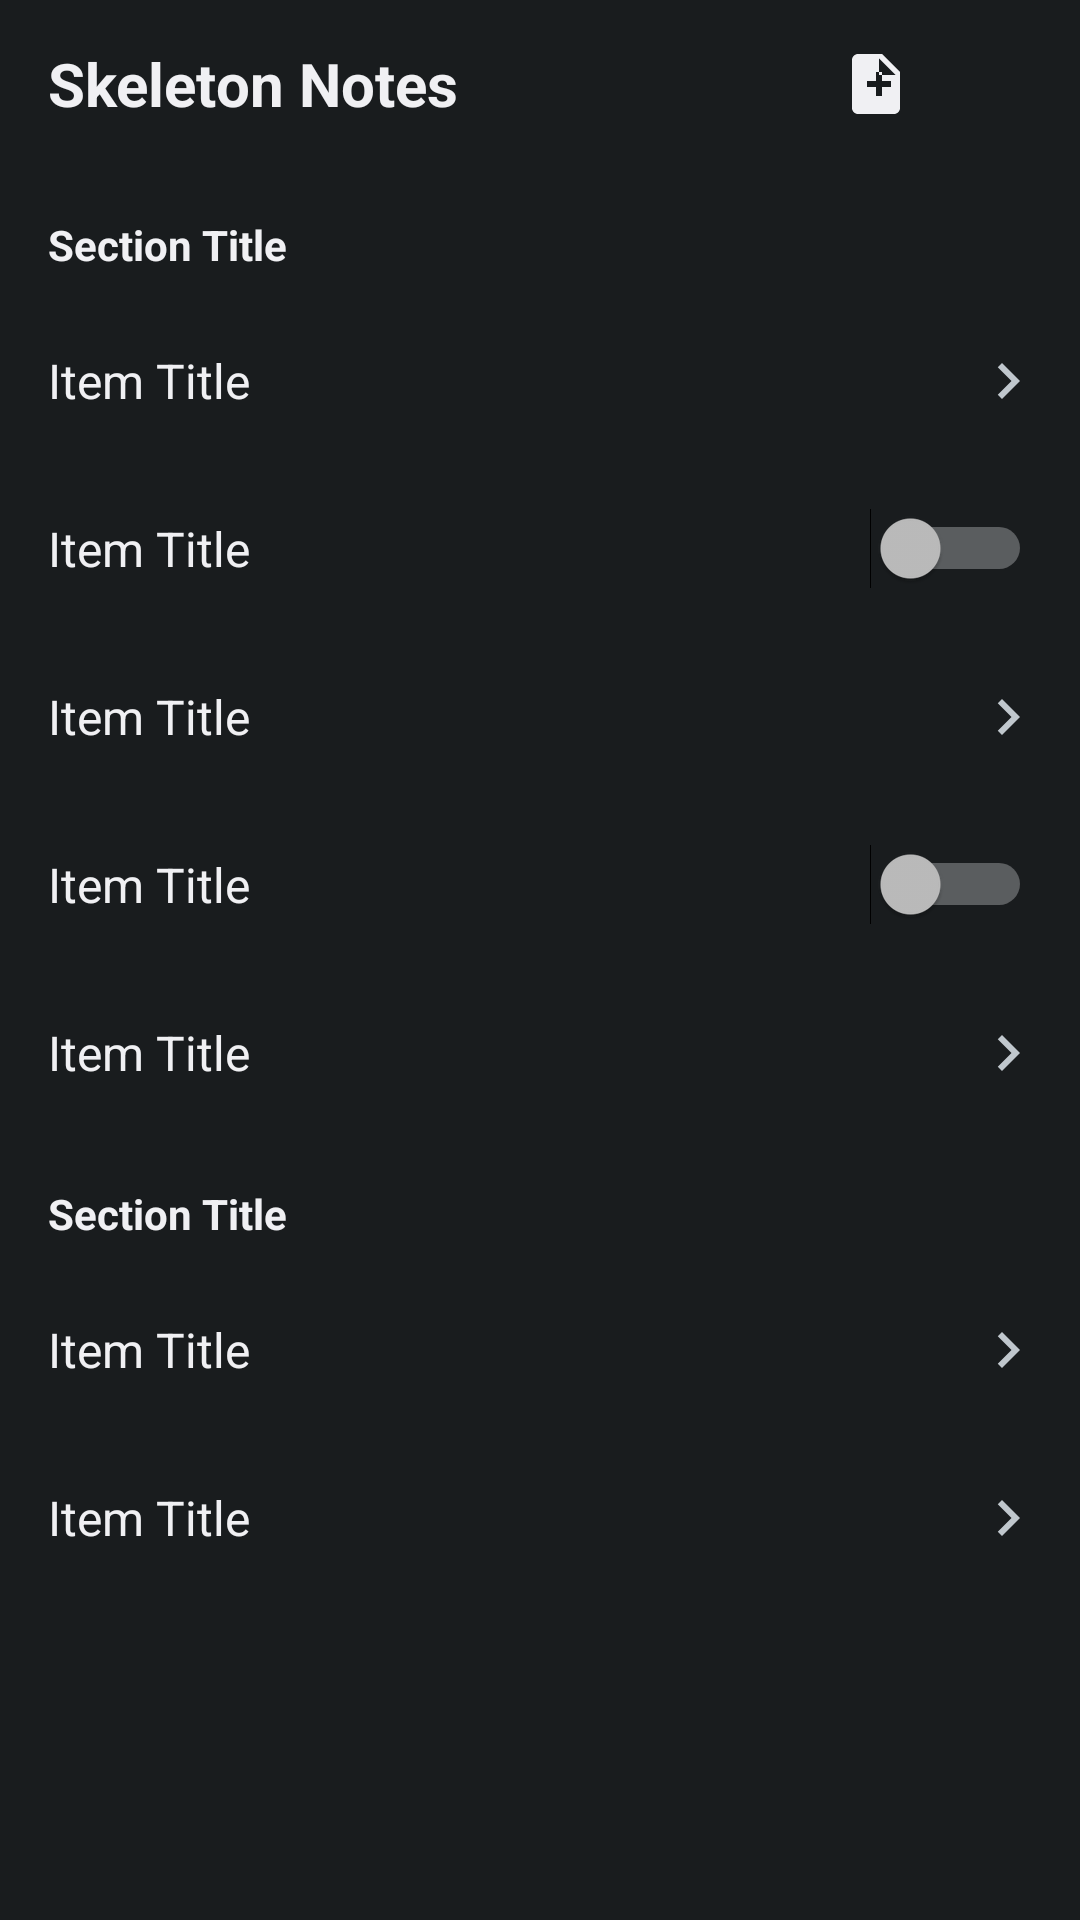

Icon click points for this 1080px×1920px phone screenshot, format [x,y]:
Add note: [876,84]
Navigate: [1009,381], [1009,717], [1009,1053], [1009,1350], [1009,1518]
